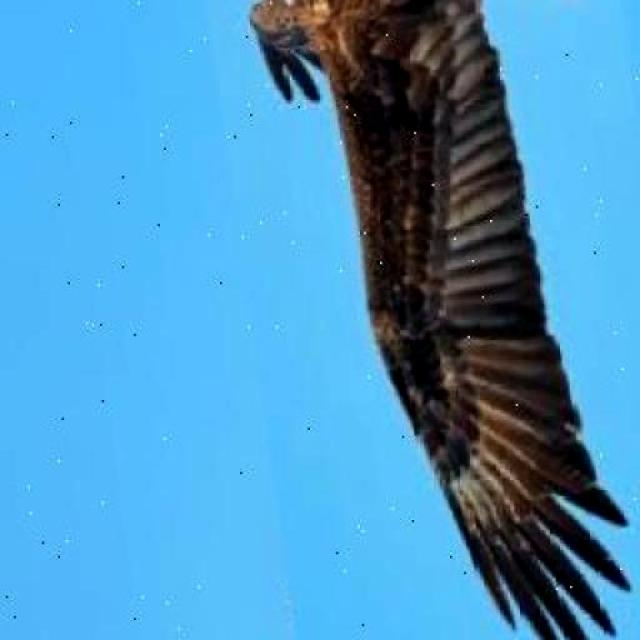airplane: (184, 0, 640, 640)
